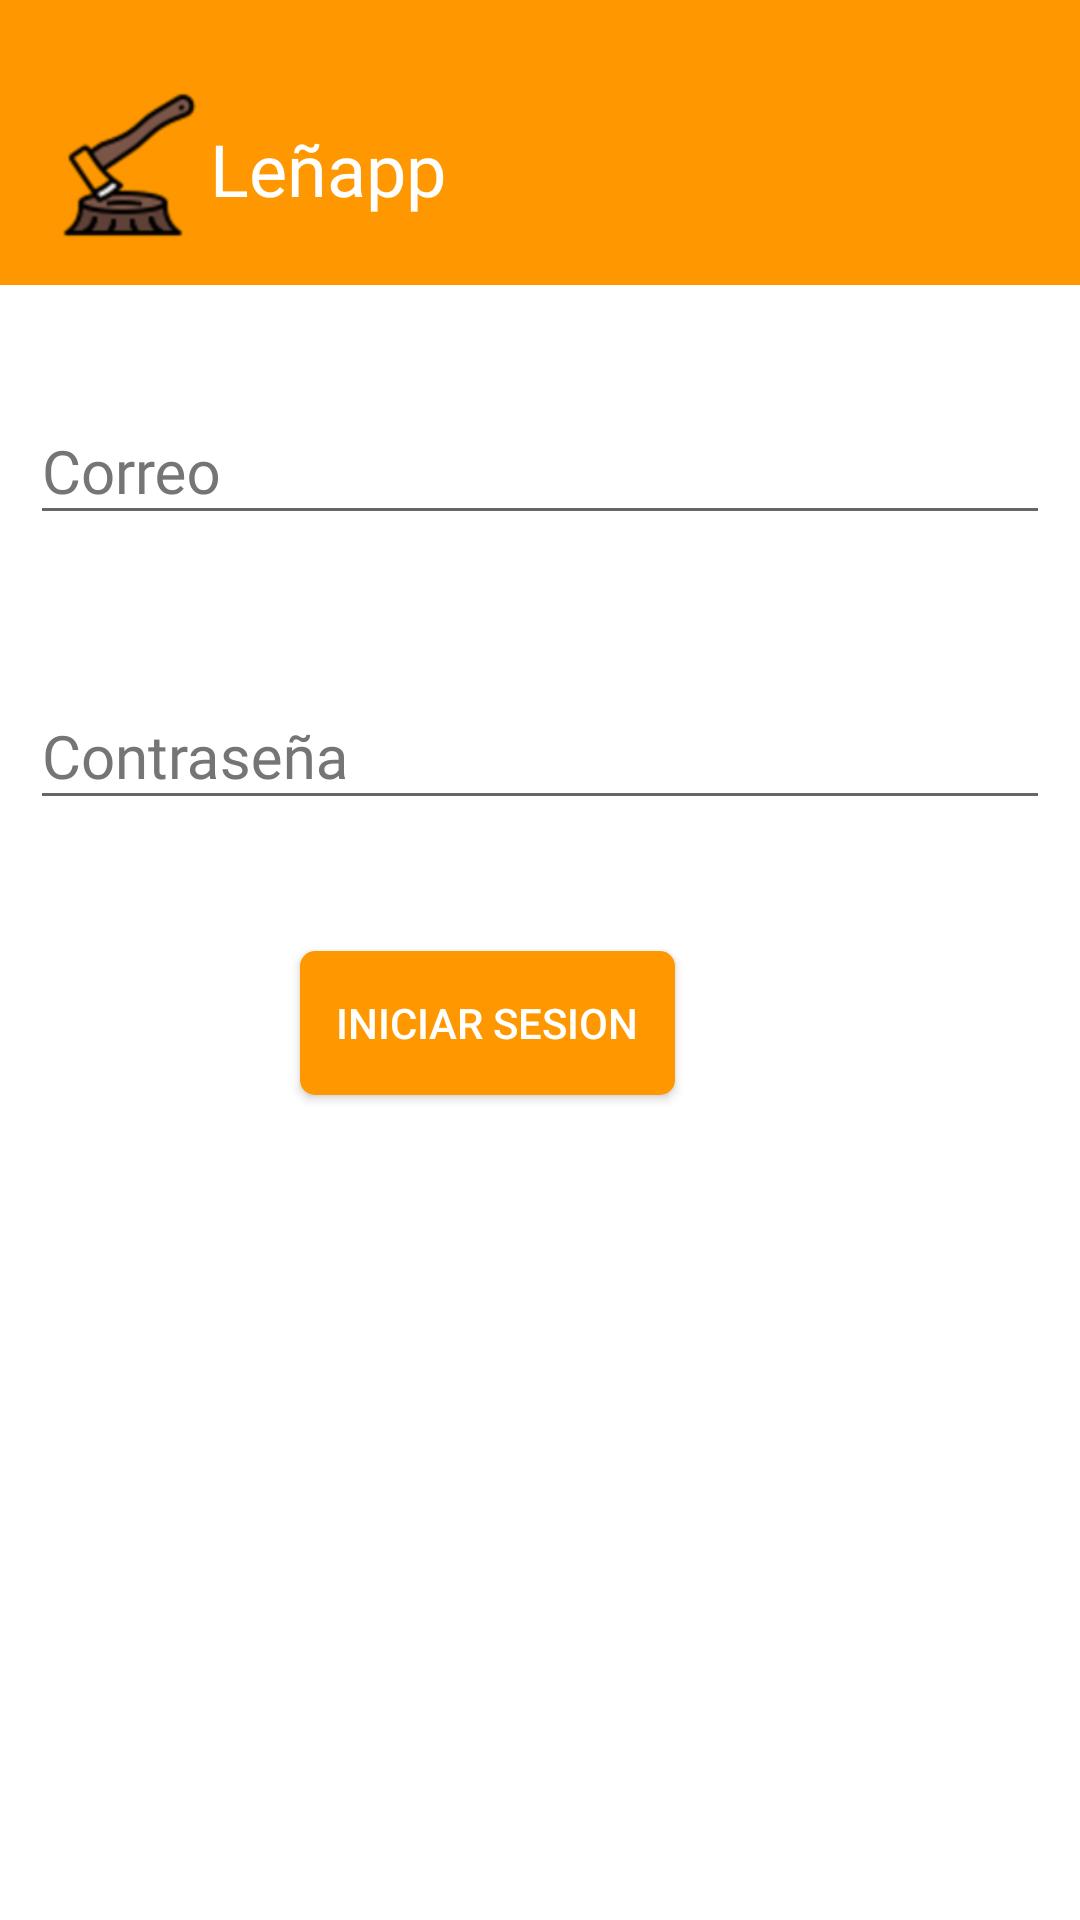

Where icons sit on this 1080px×1920px app screen, as (x1=x1, y1=y1, x2=x2, y2=y2):
axe: (x1=63, y1=93, x2=196, y2=237)
